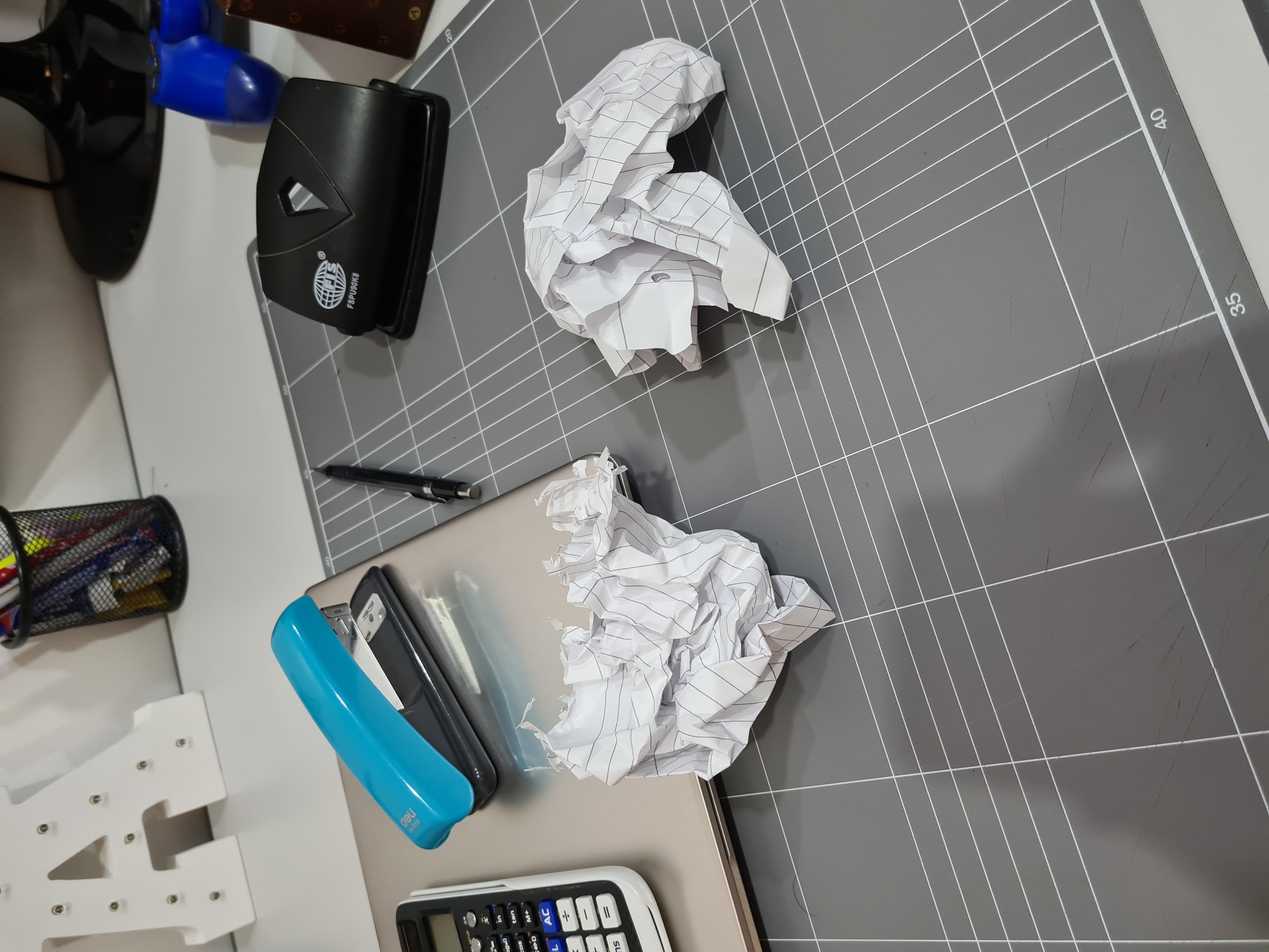paper: (215, 407, 661, 619), (753, 392, 1209, 596)
